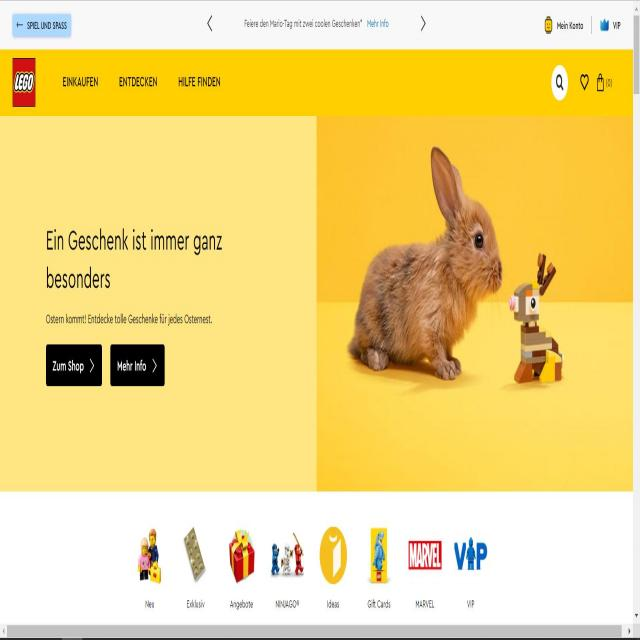button: (110, 344, 165, 387), (46, 344, 102, 386), (13, 12, 72, 39), (552, 64, 568, 101)
